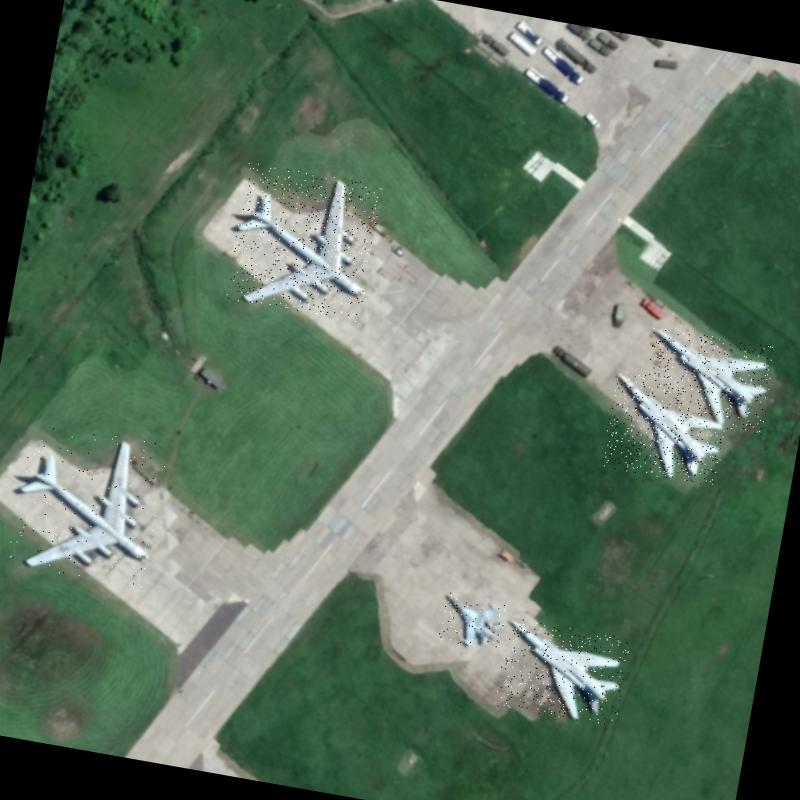A1: (438, 592, 509, 652)
A12: (600, 370, 732, 487), (638, 326, 777, 435), (494, 618, 631, 728)
A17: (7, 422, 170, 588), (225, 162, 383, 323)
